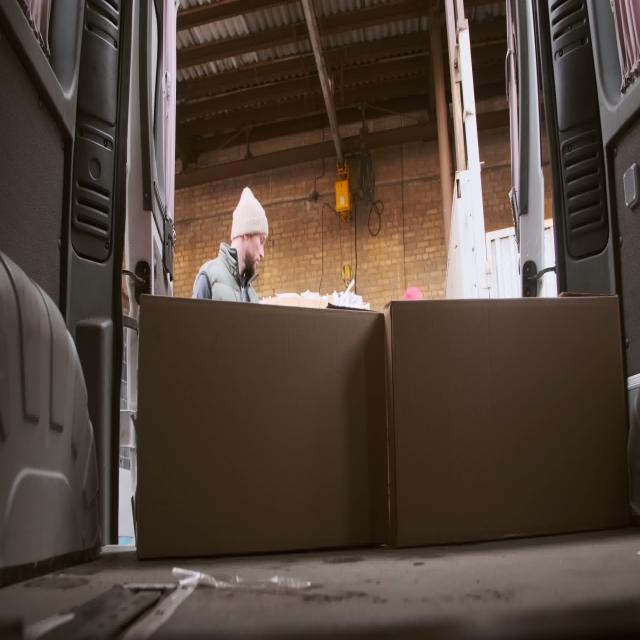counting-the-number-of-boxes: (136, 297, 389, 559), (384, 297, 632, 546)
